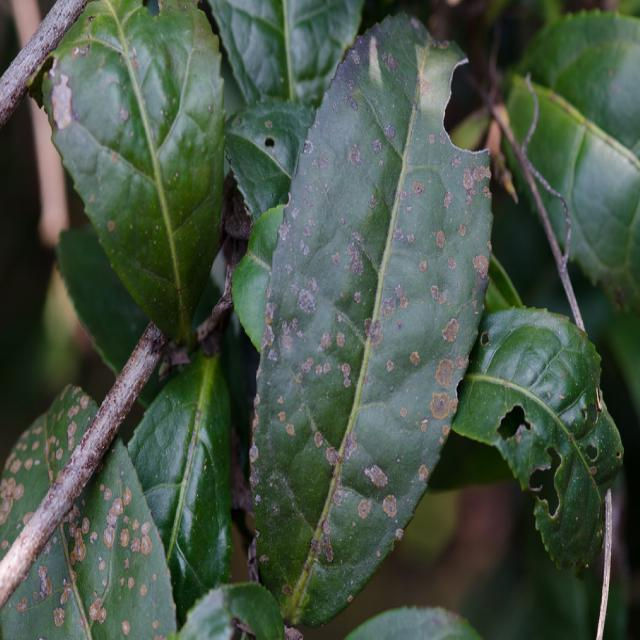Tea algae leaf spot: (281, 64, 463, 579), (11, 406, 148, 620)
